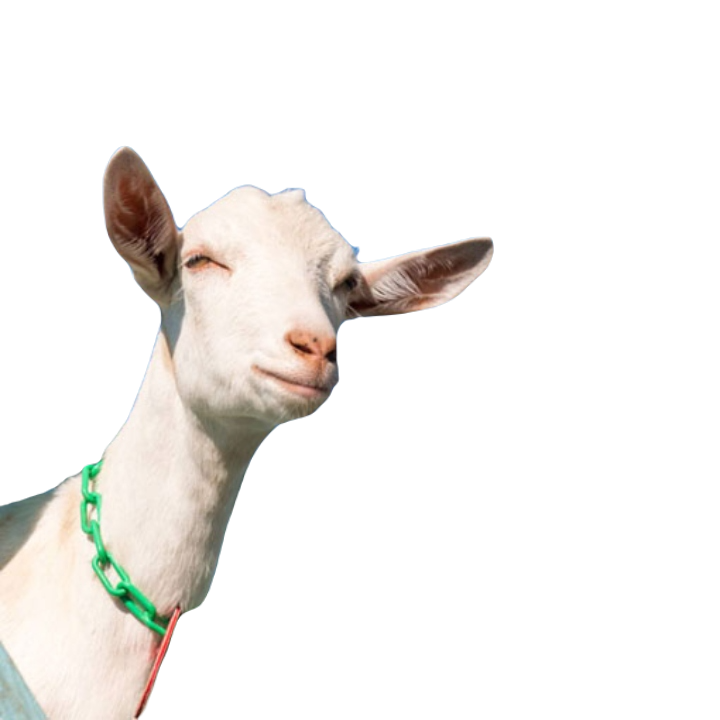Goat: (0, 146, 494, 717)
